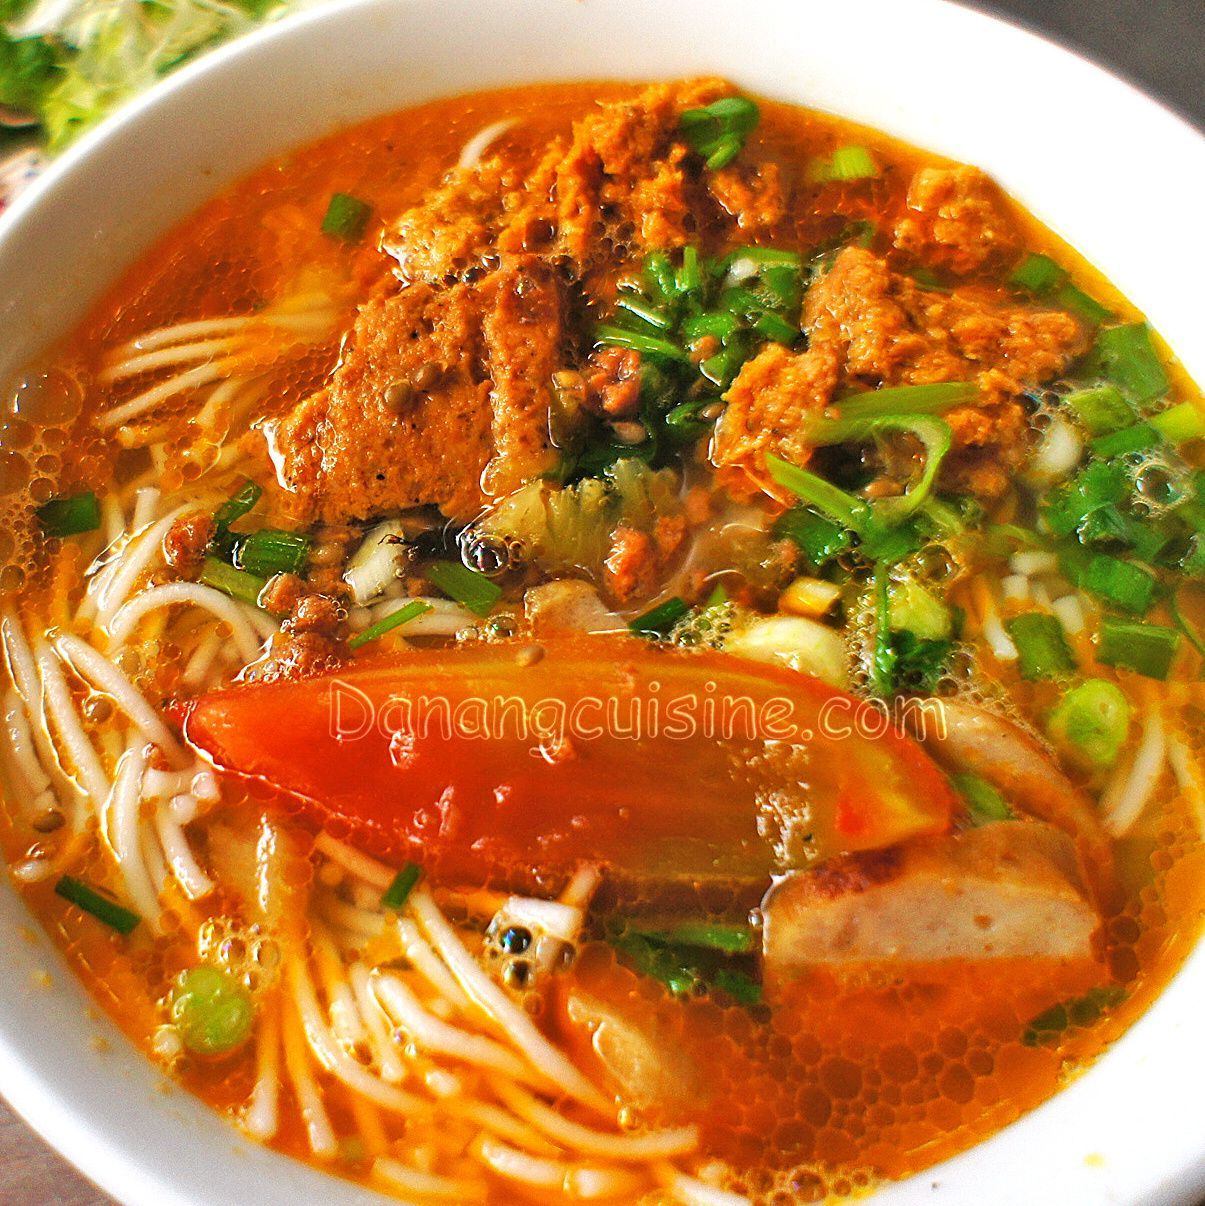chamoc: (738, 825, 1096, 1059)
rieu: (249, 168, 591, 505), (727, 296, 1058, 470)
